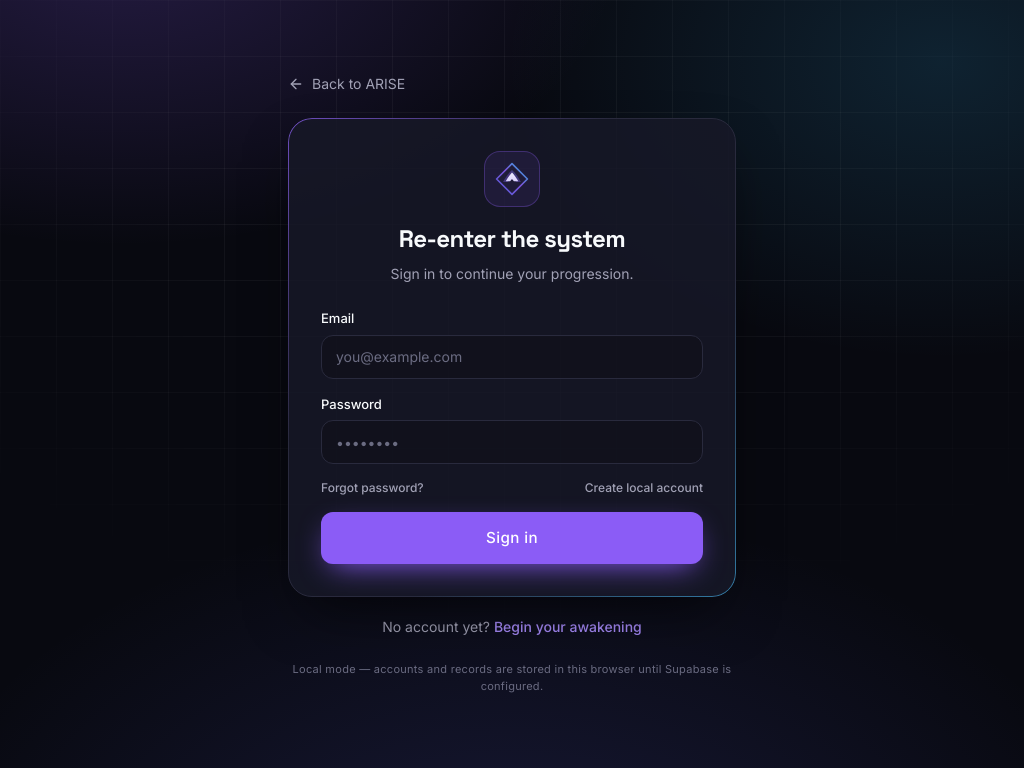
Test case: LoginPage › surfaces an error for wrong credentials (Journey A)
Type "hunter@example.com" into the field labelled "Email" at (512, 357), box [321,335,703,379]
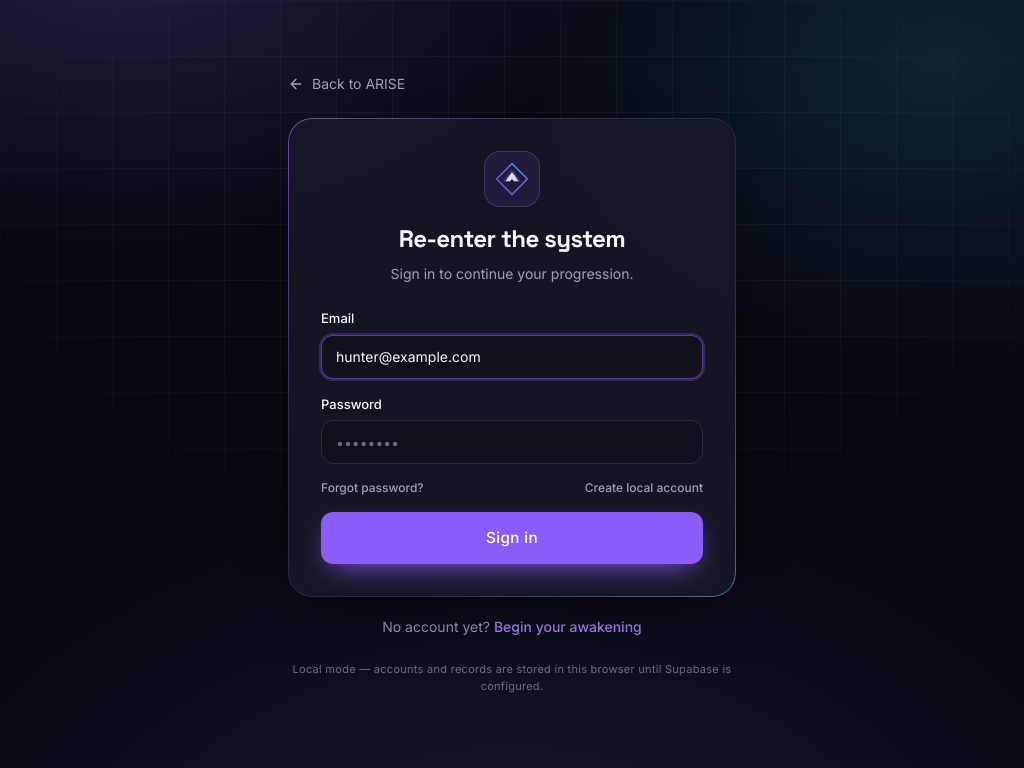
Type "wrong-password" into the password field labelled "Password" at (512, 442), box [321,420,703,464]
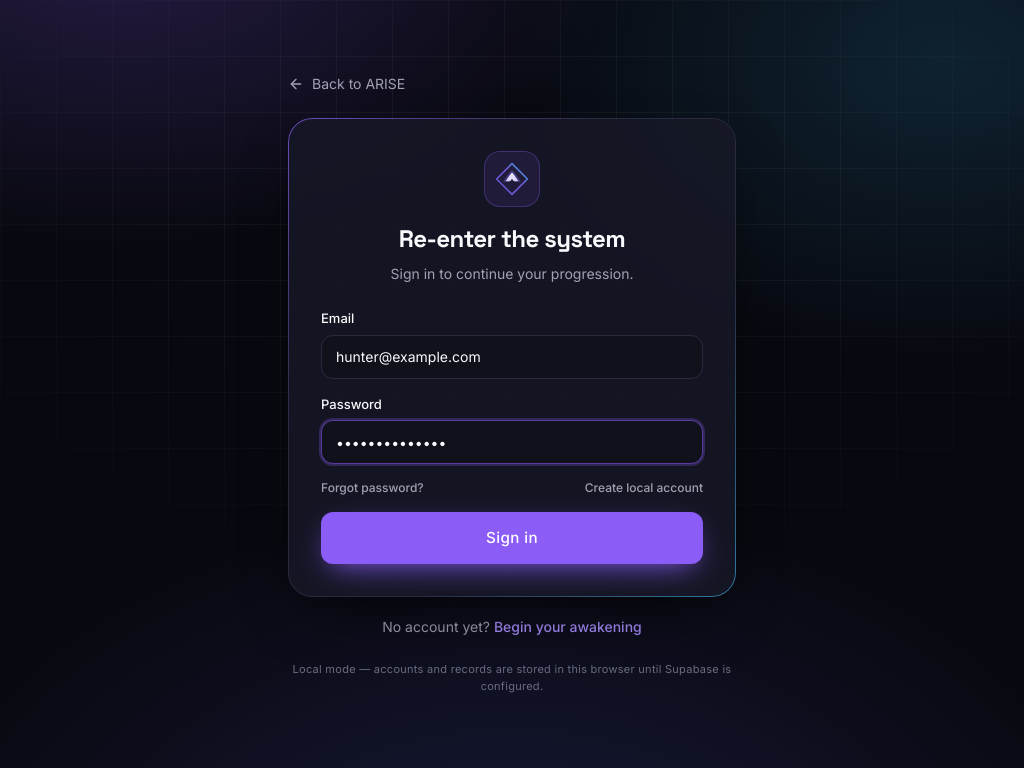
Click the button "Sign in" at (512, 538), box [321,512,703,564]
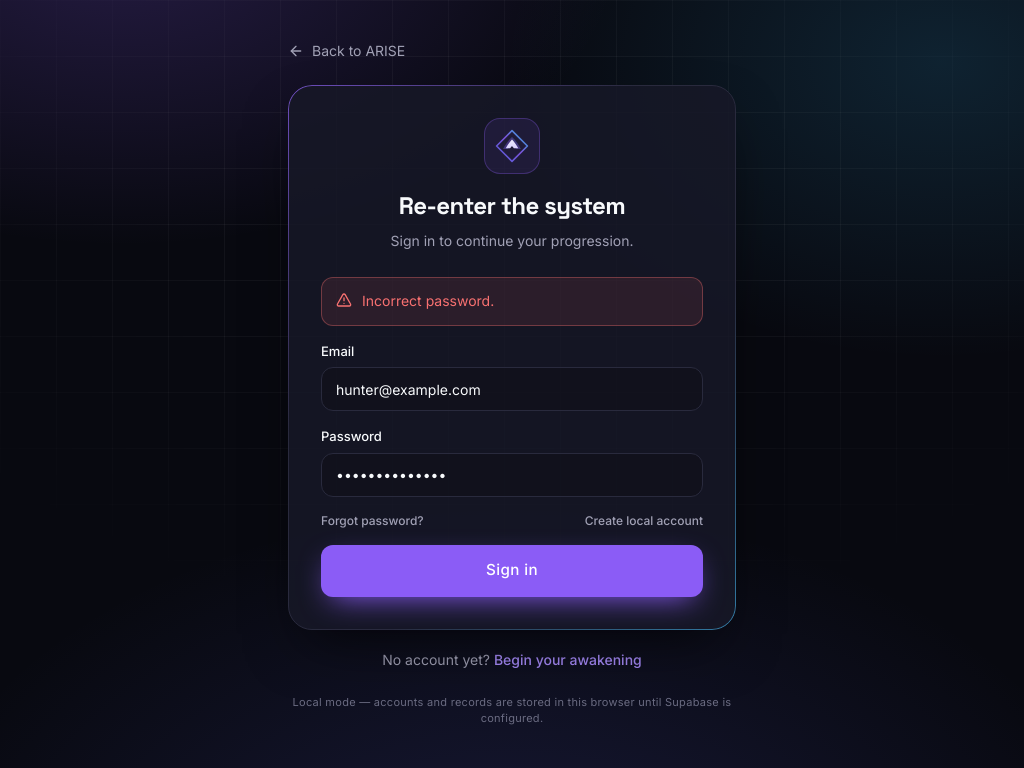
Result: the text "Incorrect password." is shown at [362,290,494,313]
